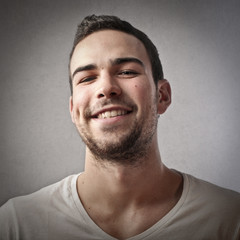teen: (66, 16, 173, 173)
